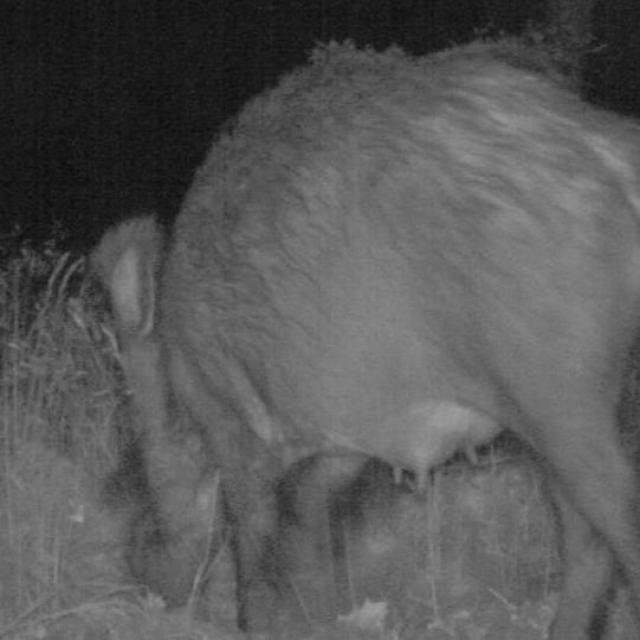pig: (56, 5, 640, 640)
